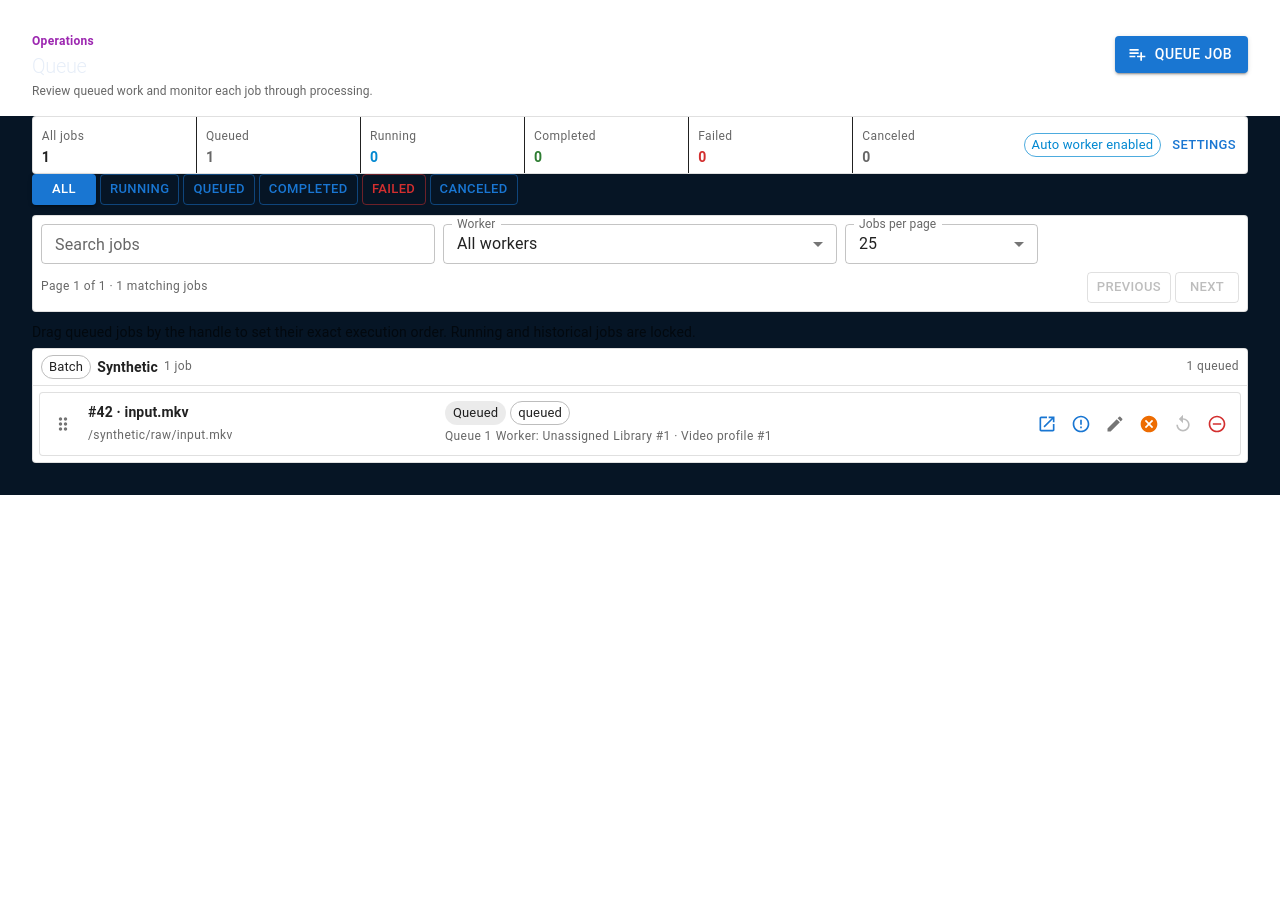
Test: Queue mutation feedback timing › closes an edited job form on the authoritative response while Queue and asset refetches continue
The image size is (1280, 900).
Step 1. Click the button named "Edit Job #42" → [1115, 424], box [1100,409,1130,439]
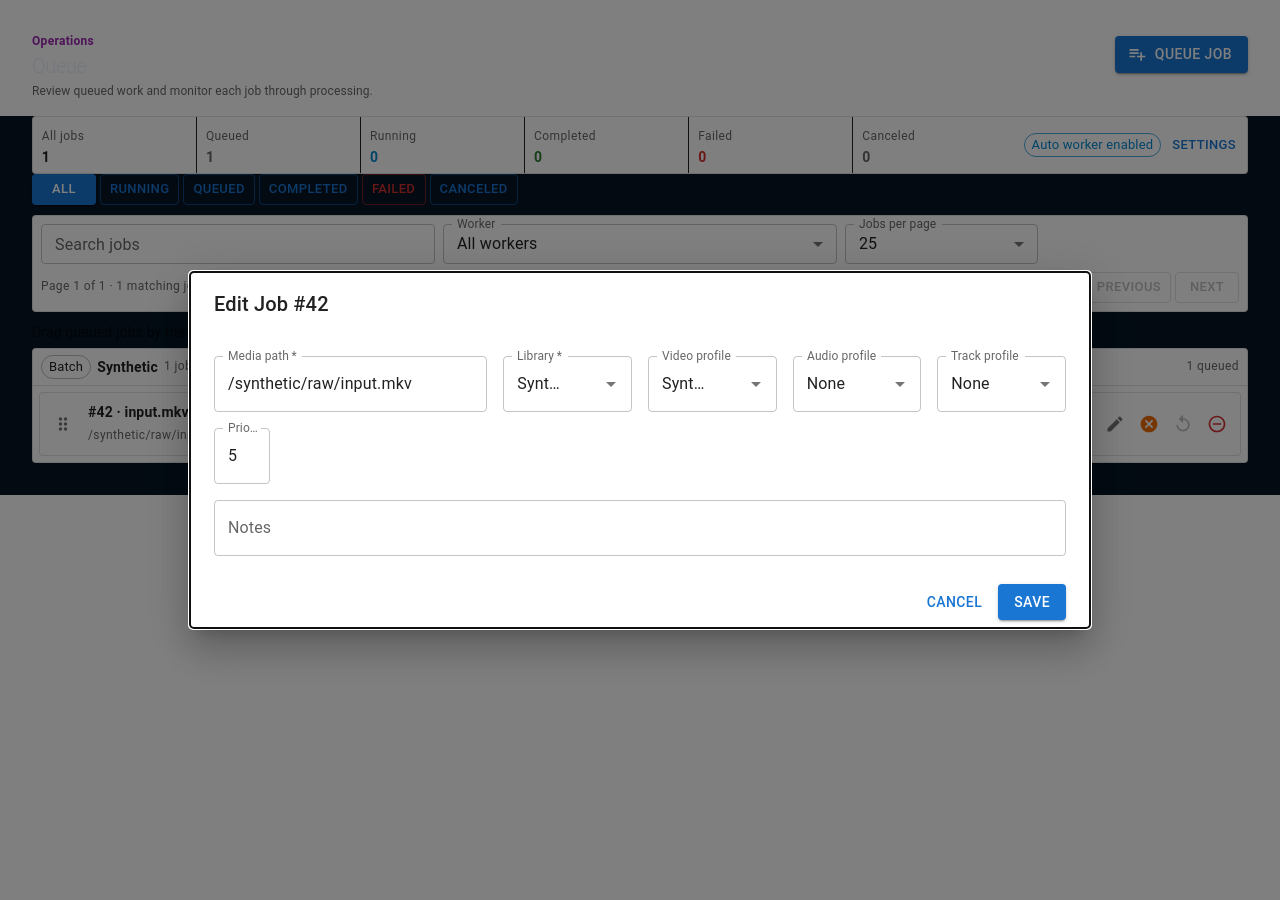
Step 2. Click the button "Save" → [1032, 602], box [998,584,1066,620]
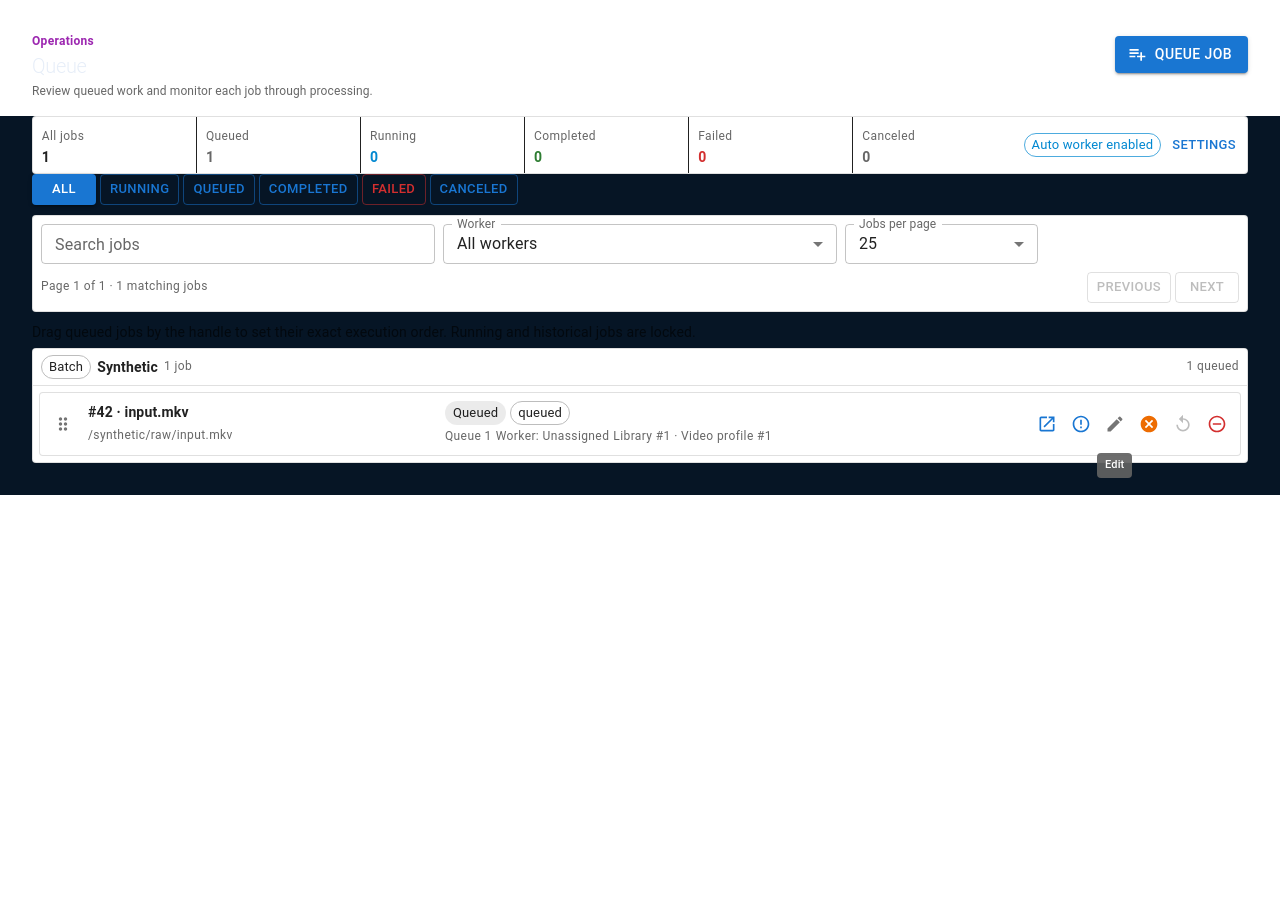
Check: the heading "Edit Job #42" is gone
